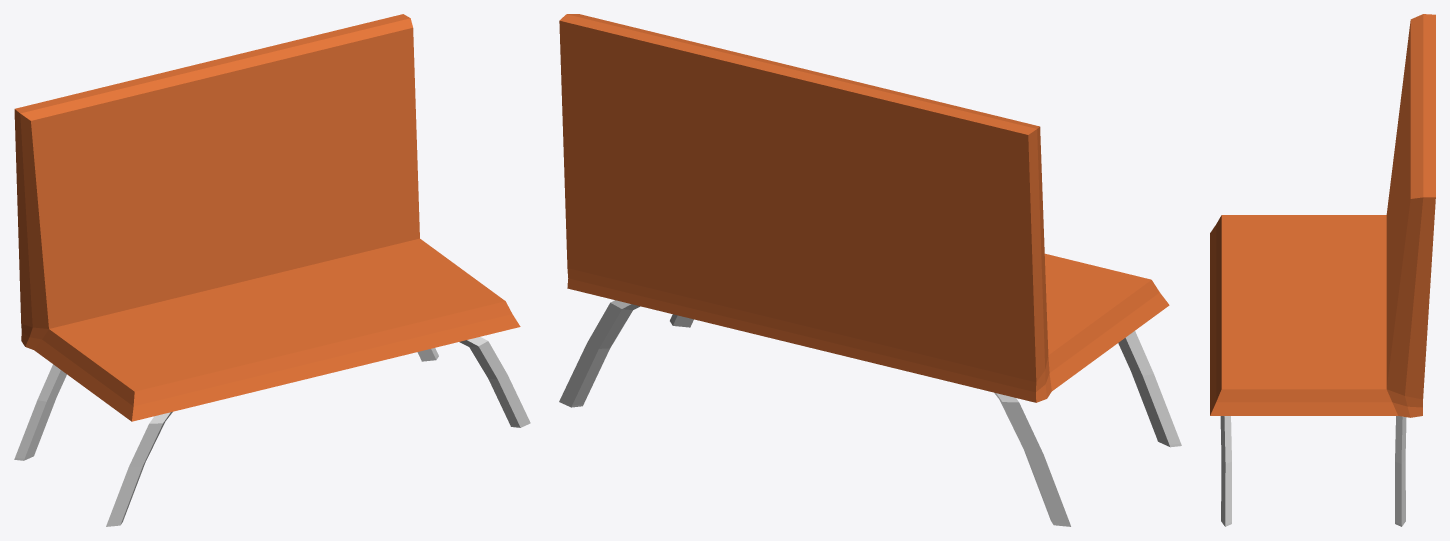
The model's file is Large Chair Asset.fbx.
3 renders of one model, left to right at view 1: azimuth 30°, elevation 25°; view 2: azimuth 150°, elevation 25°; view 3: azimuth 270°, elevation 25°, orthographic. The views are drawn at different scales.
Visible parts, largest first — view 1: Chair B; view 2: Chair B; view 3: Chair B.
Boxes of the visible parts, <box> form: Chair B: <box>14,14,530,526</box>; Chair B: <box>559,14,1181,526</box>; Chair B: <box>1210,14,1435,526</box>.
Size of the model in its own units: 175 by 132 by 83.92.
